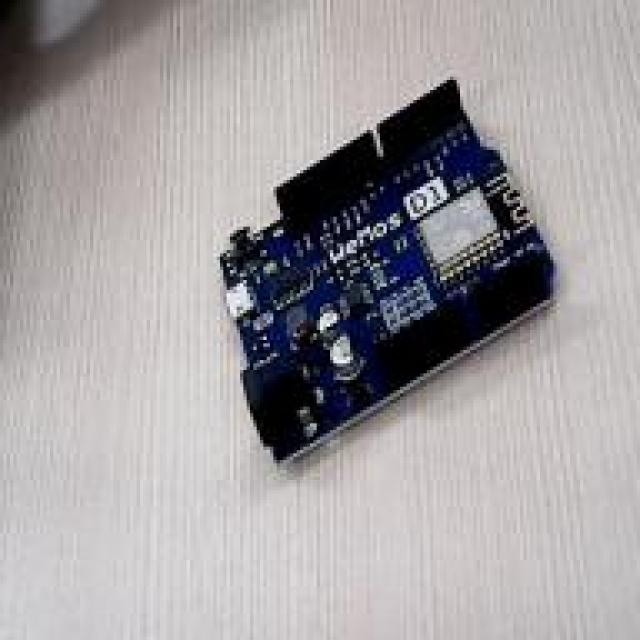Wemos: (221, 78, 551, 461)
